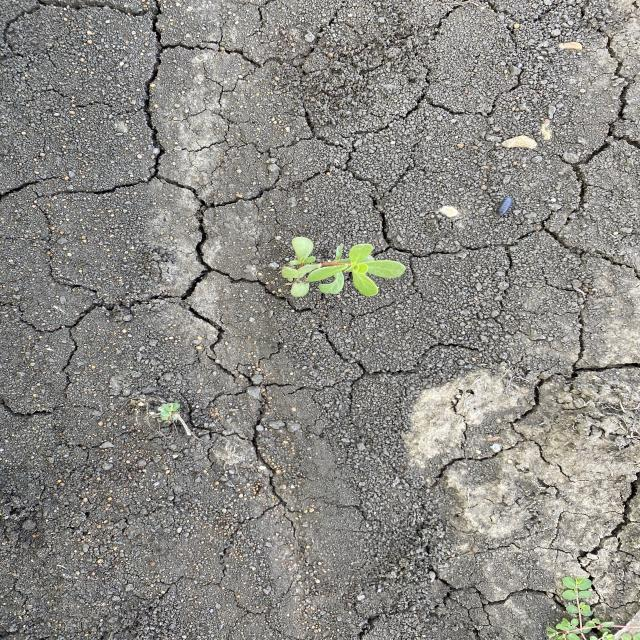Purslane: (274, 231, 409, 302)
SpottedSpurge: (537, 575, 638, 639)
